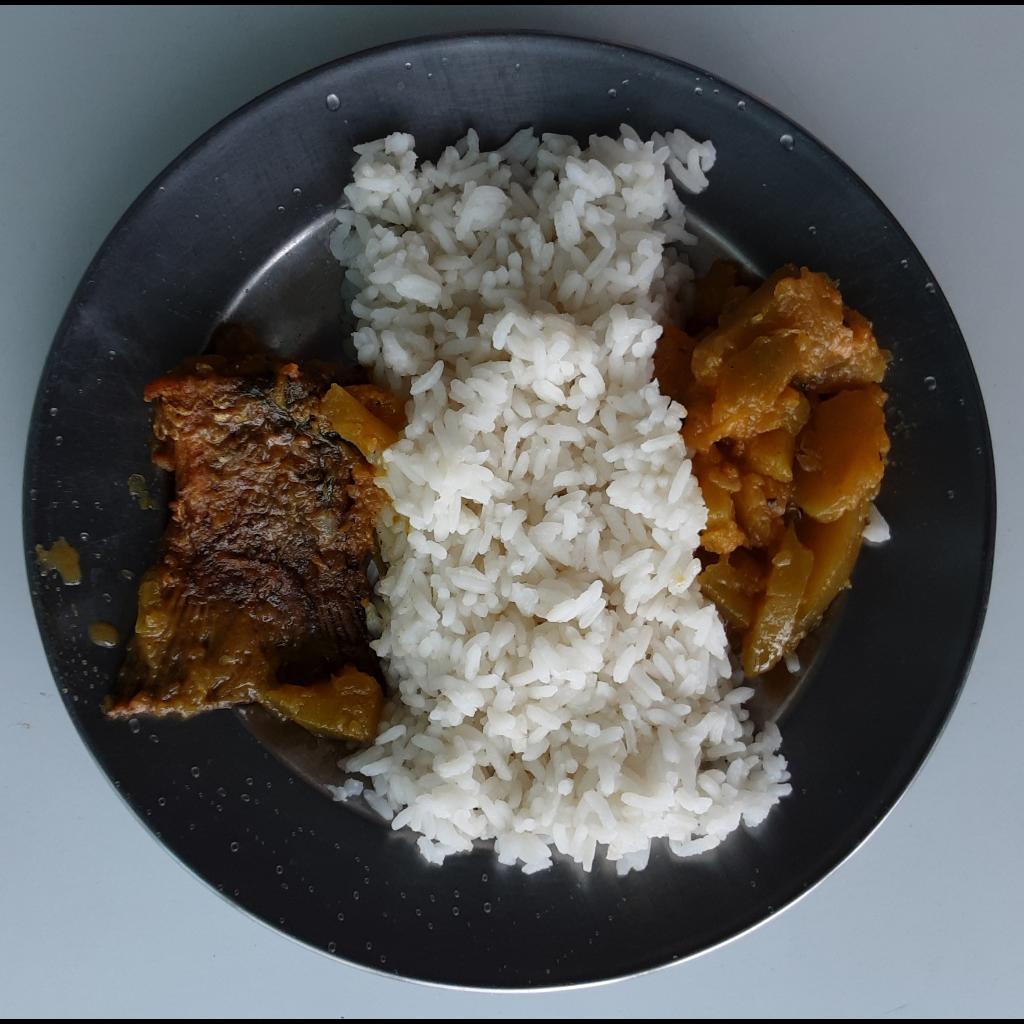fish: (107, 356, 398, 738)
kumra-vaji: (676, 268, 887, 682)
rice: (329, 128, 789, 877), (867, 513, 893, 549)
